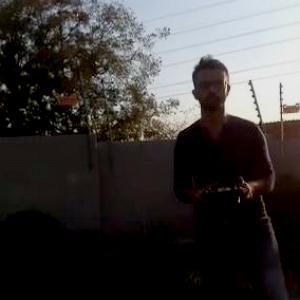follow: (168, 50, 297, 299)
